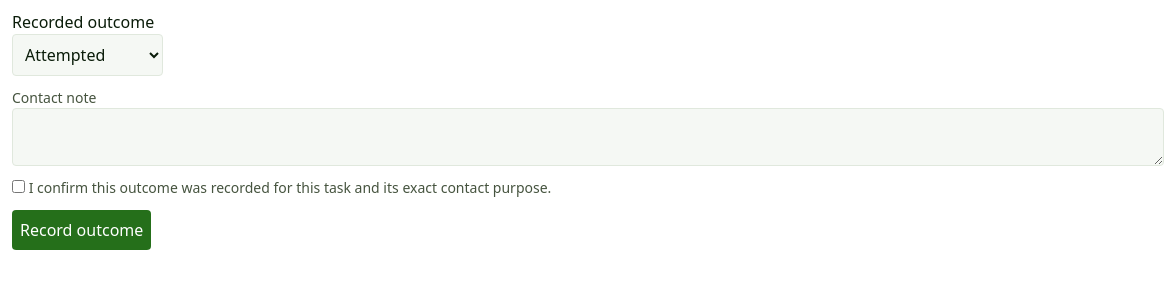
Test: OperationForm › records a contact outcome once and then locks the task
This screenshot has width=1176, height=302.
Select "Reached driver" in the dropdown labelled "Recorded outcome" at point(88, 55), box [12, 34, 163, 76]
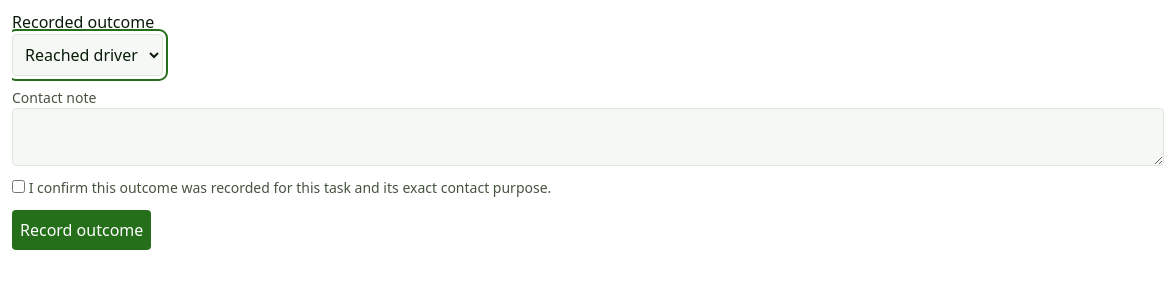
Type "Spoke to driver" into the text box labelled "Contact note" at point(588, 137), box [12, 108, 1164, 166]
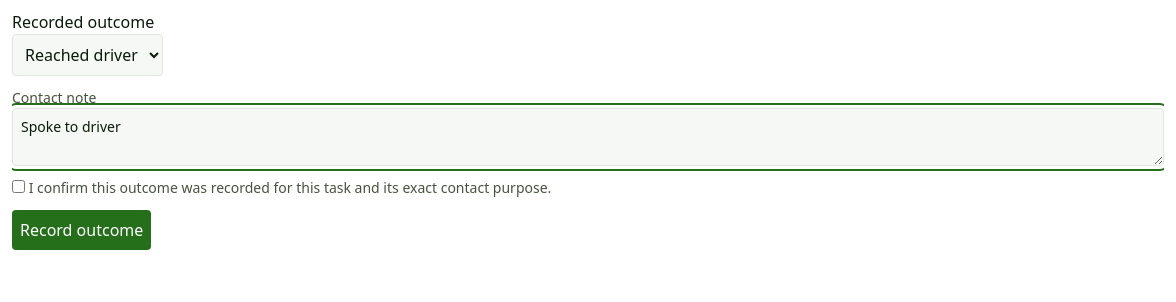
Click the checkbox labelled "exact contact purpose" at point(18, 186), box [12, 180, 25, 193]
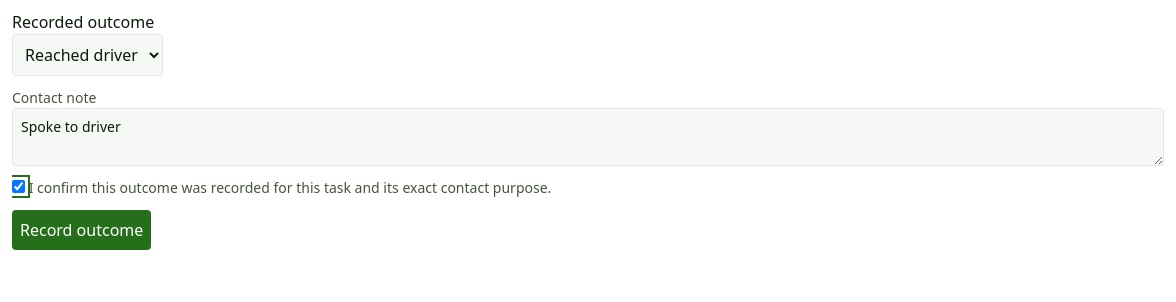
Click the button "Record outcome" at point(82, 230), box [12, 210, 151, 250]
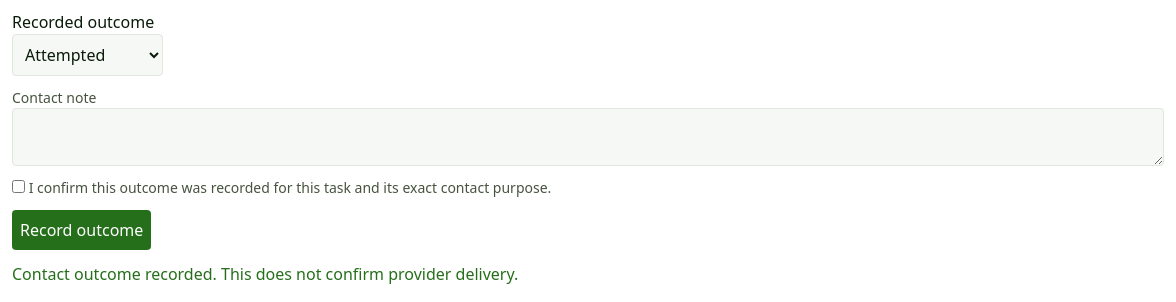
Now the message shows "does not confirm provider delivery", box [12, 263, 518, 285]
